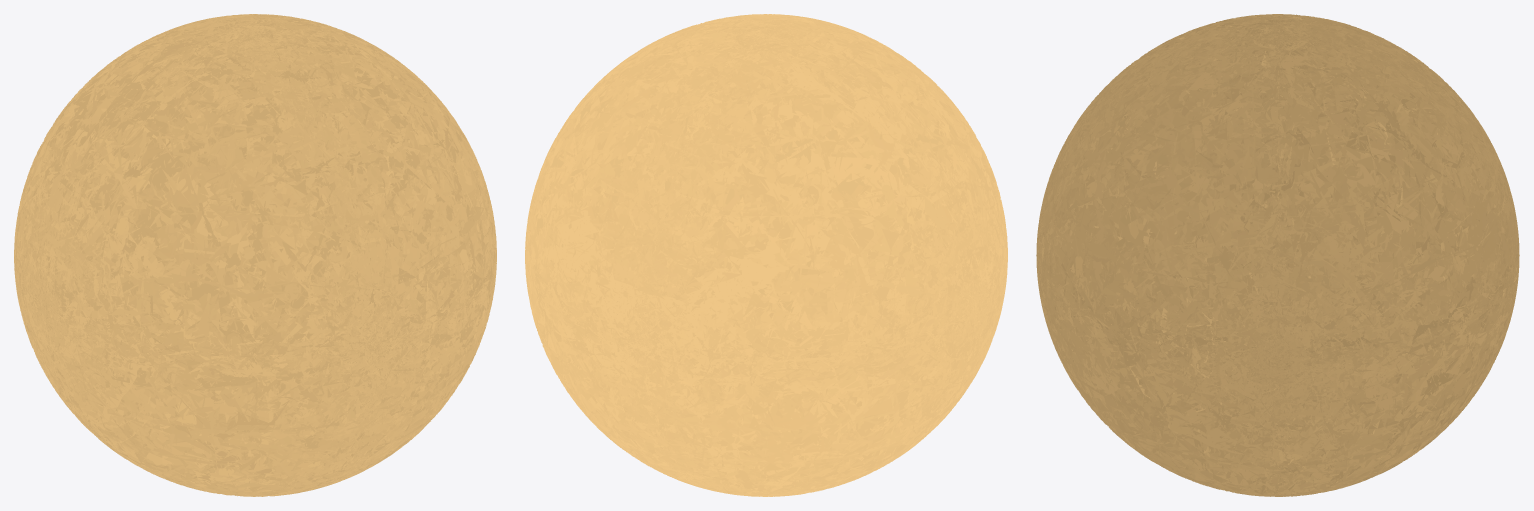
3 views of the same model, side by side, from view 1: azimuth 30°, elevation 25°; view 2: azimuth 150°, elevation 25°; view 3: azimuth 270°, elevation 25° (orthographic).
Visible parts, largest first — view 1: 22A-22A-equipment; view 2: 22A-22A-equipment; view 3: 22A-22A-equipment.
Boxes of the visible parts, x1=… form: 22A-22A-equipment: x1=14, y1=14, x2=496, y2=496; 22A-22A-equipment: x1=525, y1=14, x2=1007, y2=496; 22A-22A-equipment: x1=1036, y1=14, x2=1519, y2=496.
Size of the model in its own units: 2 by 2 by 2.
